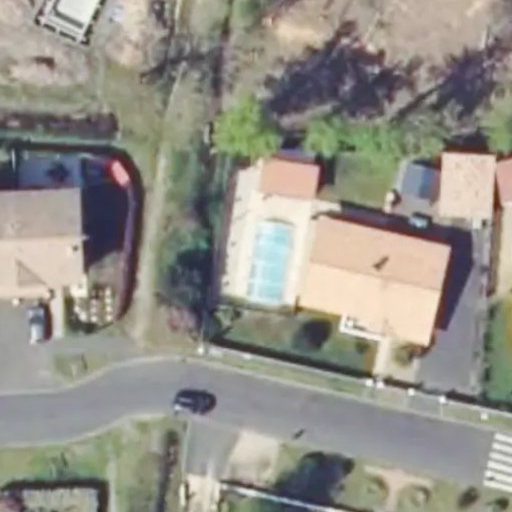pool: (247, 222, 299, 303)
